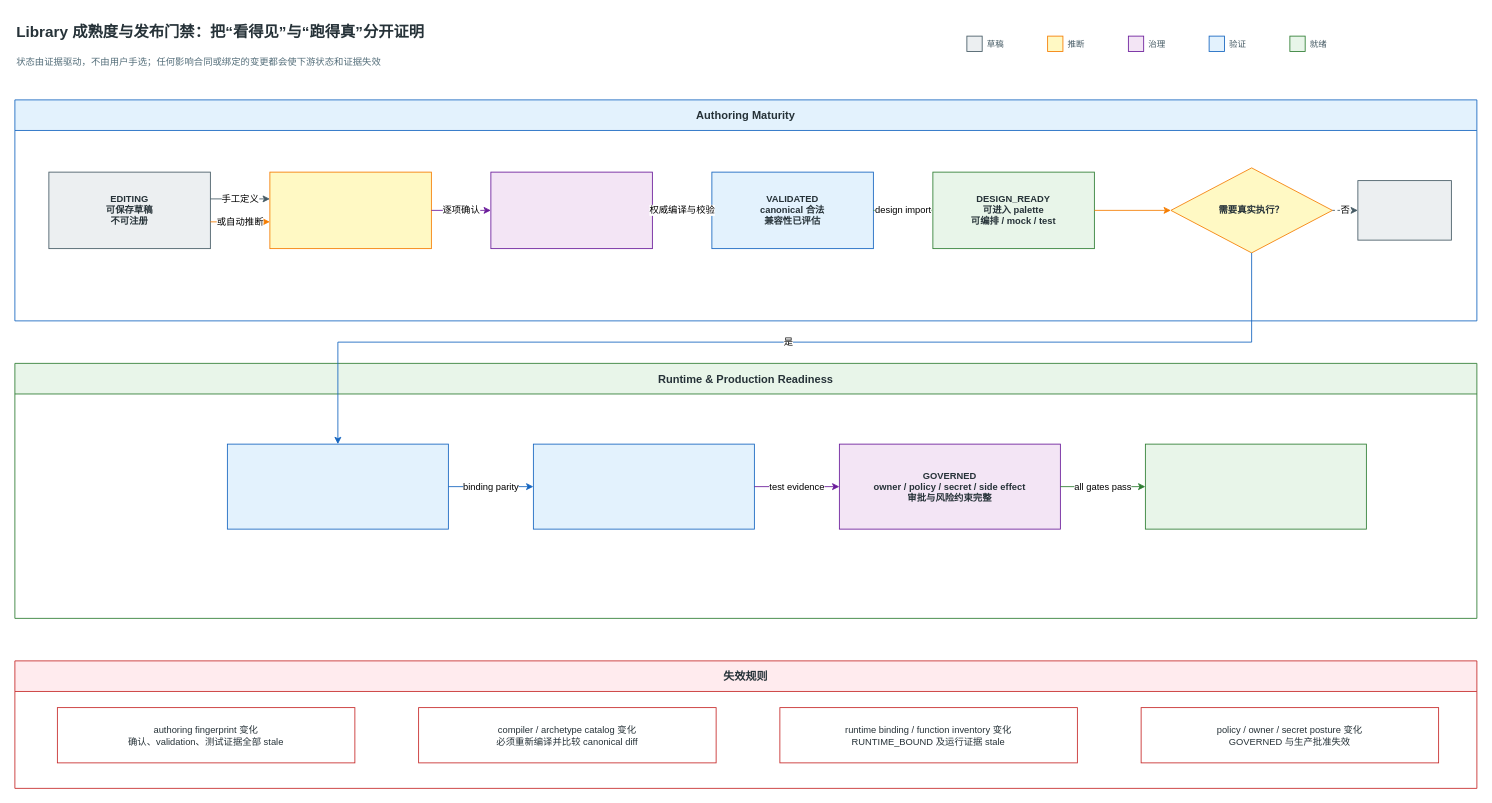
Some shapes in this 1492 by 803 pixel diagram are drawn without their labels. Each missing label, with the centre of its shape:
CONFIRMED 人确认类型、端口 与关键治理事实: the point at 571,210
INFERRED 观察到结构 仍含未确认事实: the point at 350,210
PRODUCTION_READY 可执行发布 可审计、可回滚: the point at 1255,486
RUNTIME_BOUND operator / function 与运行时能力匹配 binding fingerprint 已锁定: the point at 337,486
TEST_EVIDENCED unit / mock / contract suite 覆盖阈值和 oracle 达标: the point at 643,486
保持 DESIGN_READY: the point at 1404,210
